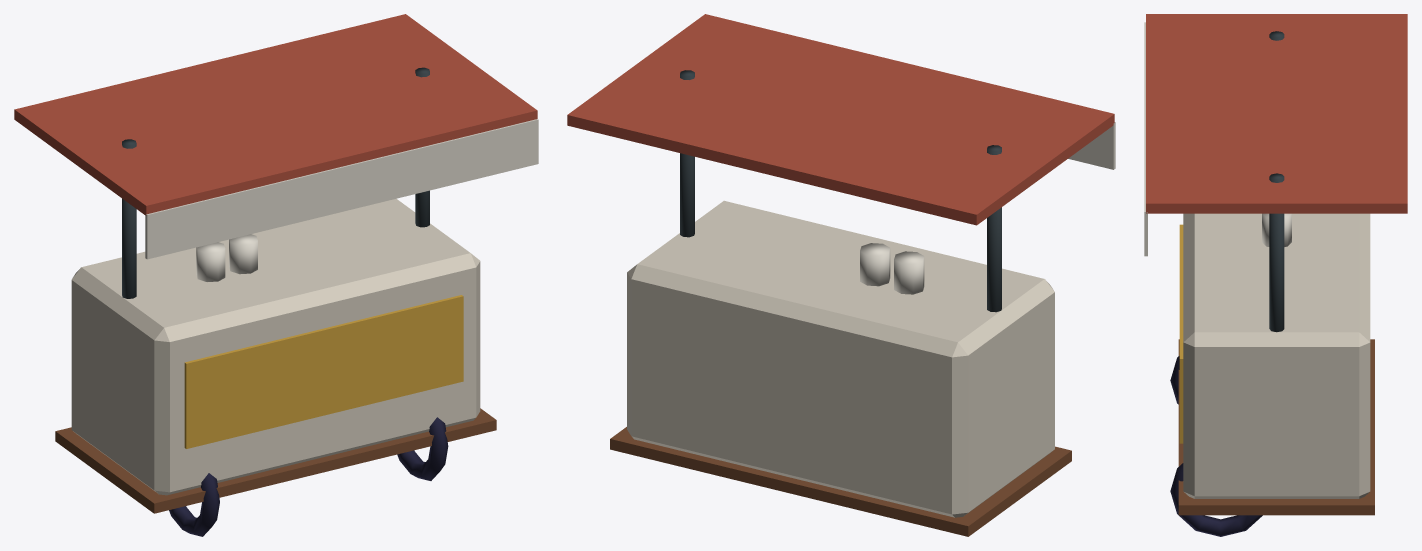
The model's file is coffee_cart.glb.
3 renders of one model, left to right at view 1: azimuth 30°, elevation 25°; view 2: azimuth 150°, elevation 25°; view 3: azimuth 270°, elevation 25°, orthographic. The views are drawn at different scales.
Visible parts, largest first — view 1: coffee_cart; view 2: coffee_cart; view 3: coffee_cart.
Boxes of the visible parts, x1,y1,x2,y2 form: coffee_cart: (14, 14, 538, 536); coffee_cart: (567, 14, 1115, 536); coffee_cart: (1144, 14, 1407, 536).
Bounding box in the file's own units: 2.4 × 2.22 × 1.41.
